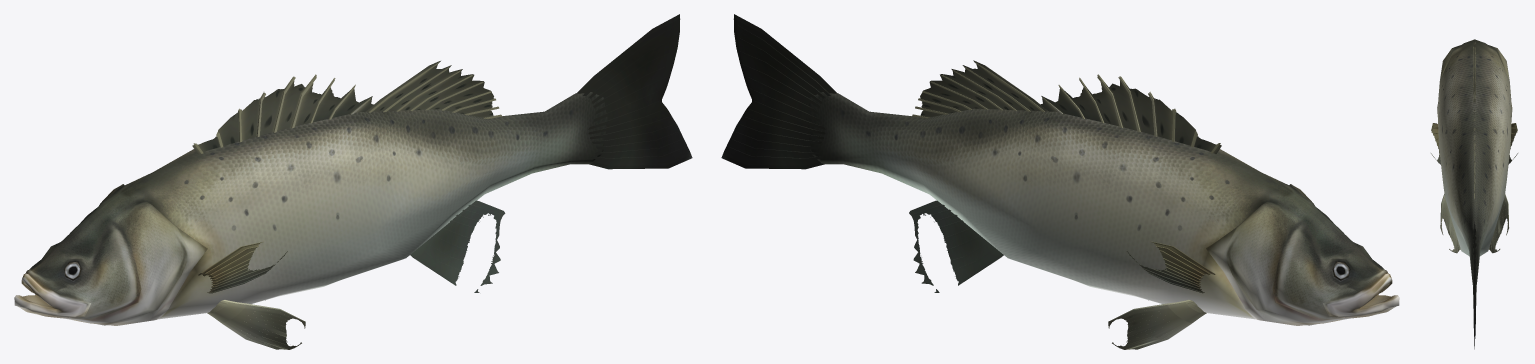
File: 1 pez.FBX
3 renders of one model, left to right at view 1: azimuth 30°, elevation 25°; view 2: azimuth 150°, elevation 25°; view 3: azimuth 270°, elevation 25°, orthographic. The views are drawn at different scales.
Visible parts, largest first — view 1: Box01, Plane05, Plane02, Plane10, Plane04, Plane09, Plane03; view 2: Box01, Plane05, Plane02, Plane10, Plane04, Plane12, Plane11; view 3: Box01, Plane12, Plane09, Plane05, Plane02, Plane03, Plane11, Plane10.
Part boxes in pixels (x1=…): Box01: x1=14, y1=92, x2=607, y2=325; Plane05: x1=577, y1=14, x2=692, y2=169; Plane02: x1=192, y1=74, x2=373, y2=154; Plane10: x1=365, y1=61, x2=501, y2=118; Plane04: x1=410, y1=200, x2=505, y2=292; Plane09: x1=207, y1=300, x2=305, y2=349; Plane03: x1=198, y1=241, x2=287, y2=293; Box01: x1=806, y1=92, x2=1399, y2=325; Plane05: x1=721, y1=14, x2=836, y2=169; Plane02: x1=1040, y1=74, x2=1221, y2=153; Plane10: x1=912, y1=60, x2=1047, y2=118; Plane04: x1=909, y1=200, x2=1003, y2=292; Plane12: x1=1108, y1=299, x2=1206, y2=349; Plane11: x1=1127, y1=241, x2=1215, y2=293; Box01: x1=1437, y1=39, x2=1512, y2=284; Plane12: x1=1489, y1=193, x2=1509, y2=253; Plane09: x1=1440, y1=194, x2=1460, y2=253; Plane05: x1=1471, y1=221, x2=1477, y2=349; Plane02: x1=1473, y1=41, x2=1475, y2=116; Plane03: x1=1431, y1=123, x2=1440, y2=164; Plane11: x1=1508, y1=123, x2=1517, y2=164; Plane10: x1=1473, y1=117, x2=1475, y2=200.
Bounding box in the file's own units: 26.81 × 10.92 × 3.9.
